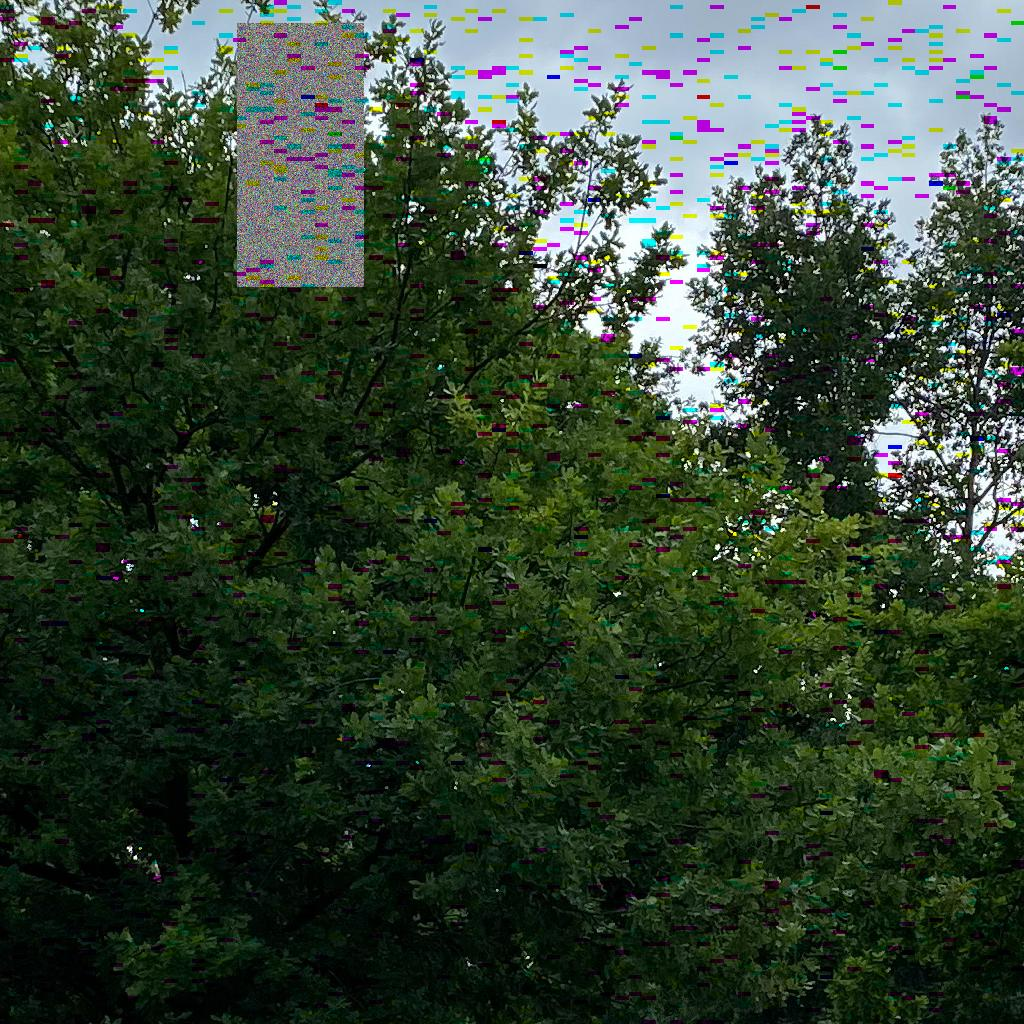tree: (1, 1, 1024, 1024), (680, 113, 914, 523), (887, 109, 1024, 584)
